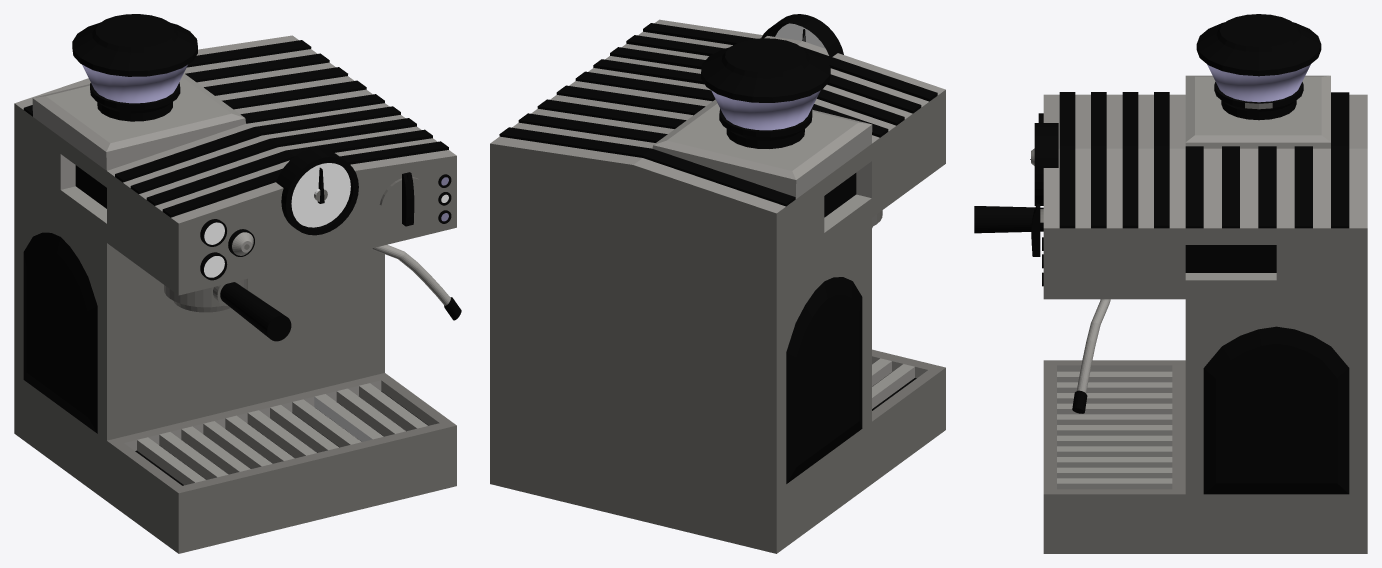
Rendered from CoffeeMachine.fbx.
The picture shows the model from 3 angles, left to right: view 1: azimuth 30°, elevation 25°; view 2: azimuth 150°, elevation 25°; view 3: azimuth 270°, elevation 25°; orthographic projection. The views are drawn at different scales.
Visible parts, largest first — view 1: Cylinder.024; view 2: Cylinder.024; view 3: Cylinder.024.
Part boxes in pixels (bbox=[...]): Cylinder.024: bbox=[14, 14, 461, 553]; Cylinder.024: bbox=[490, 14, 945, 553]; Cylinder.024: bbox=[974, 14, 1367, 553].
Size of the model in its own units: 41.59 by 55.9 by 47.32.
